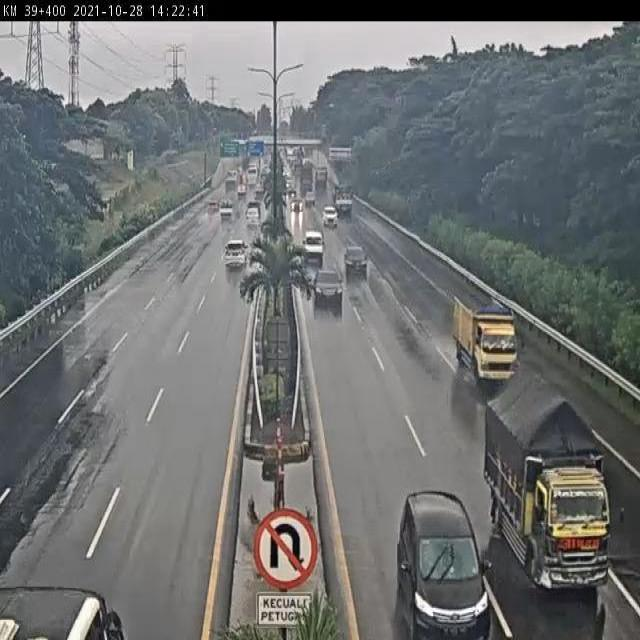truck-s-: (484, 369, 612, 595), (452, 293, 522, 384)
